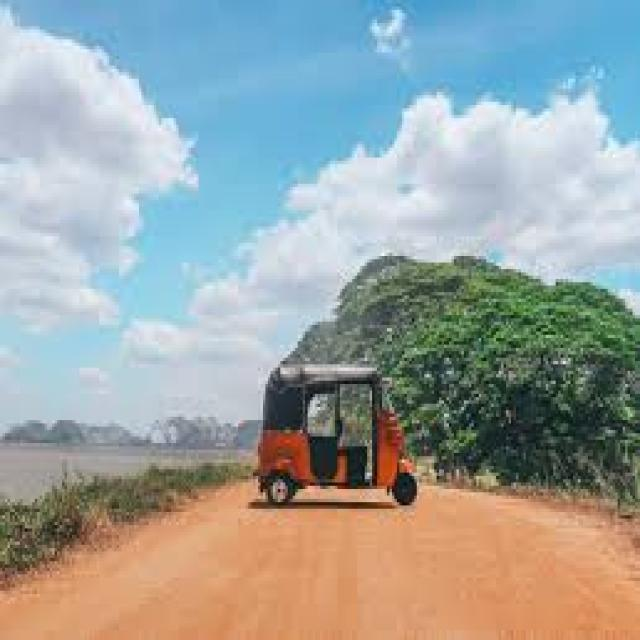tuktuk: (222, 270, 457, 560)
